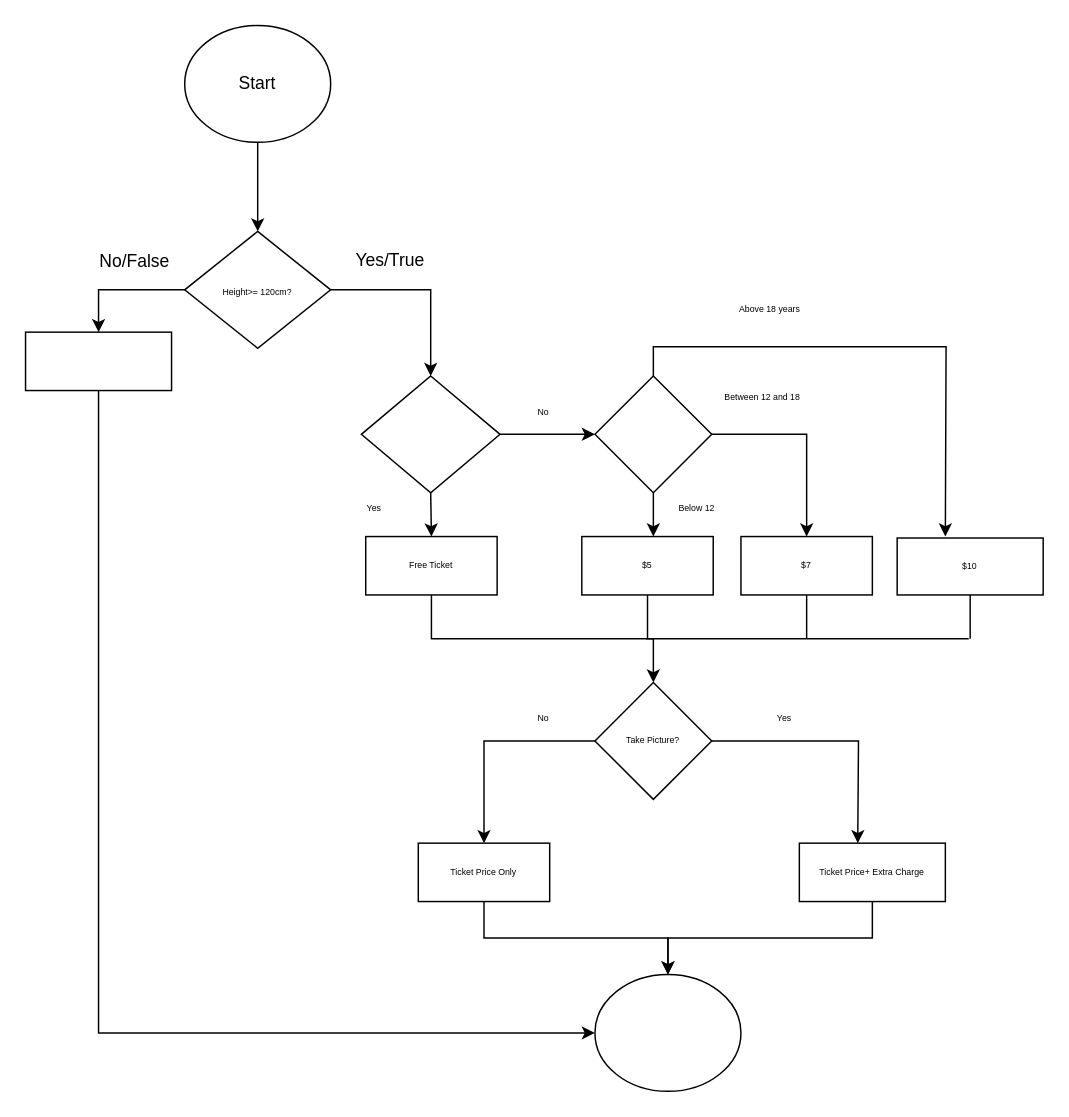
This 1069x1117 diagram has some shape labels left out. The shapes that lost their labels are listed below. From the top down, each one's box as (x1, y1, x2, y2) in pixels, then its label:
(24, 331, 172, 391): No ticket
(360, 374, 500, 493): Older than 45?
(593, 374, 712, 493): Age?
(593, 973, 741, 1091): End
